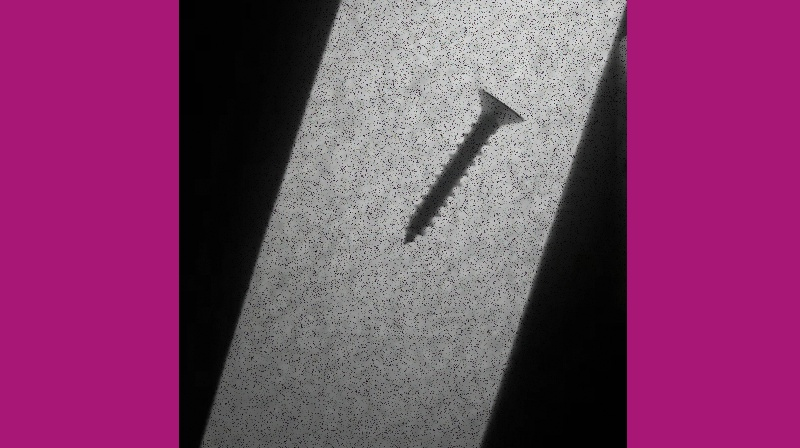S001: (398, 85, 526, 246)
